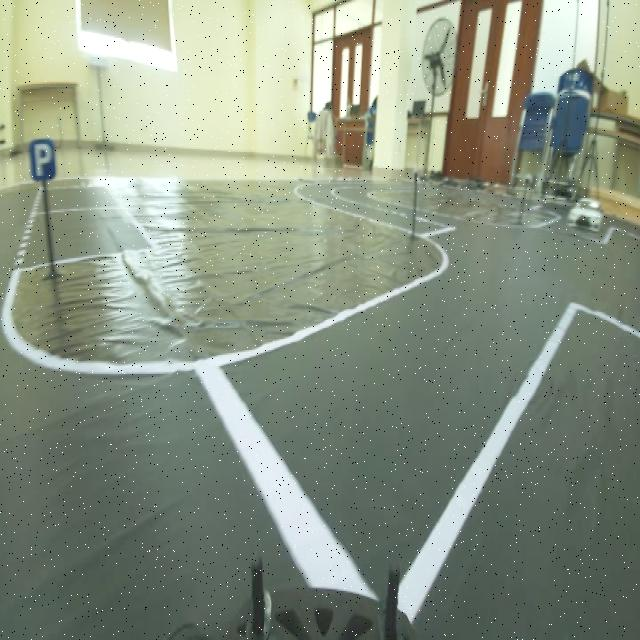parking: (22, 128, 67, 188)
